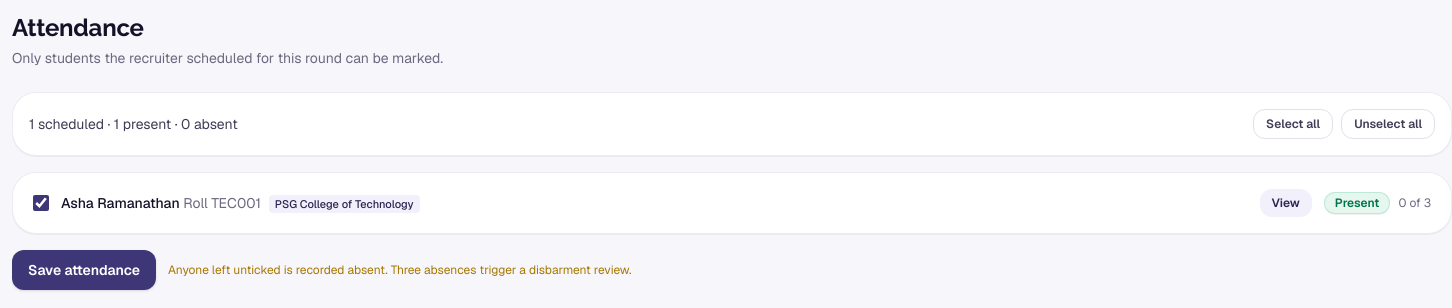
Test: AttendancePage › says which recorded mark the change replaces
Expected: the text "was" is not shown
Click the checkbox at (41, 203), box 33,195 -> 49,211
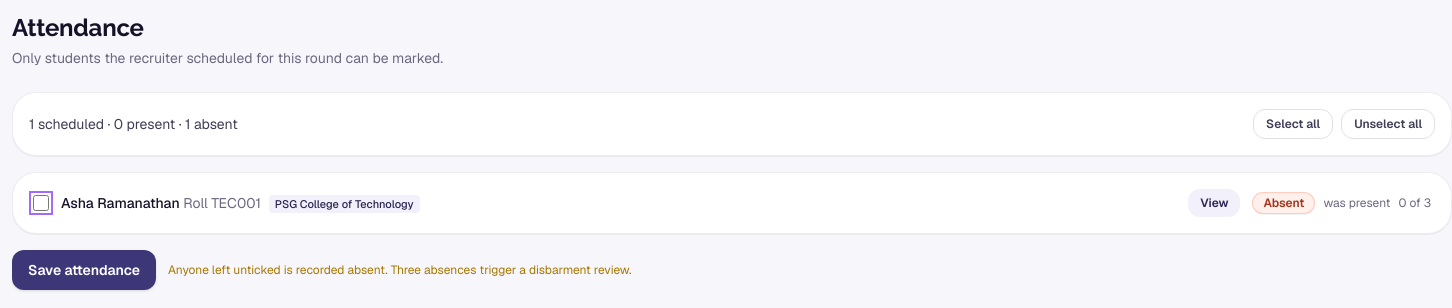
Expected: the text "was present" is shown, 1323,195 -> 1390,211
